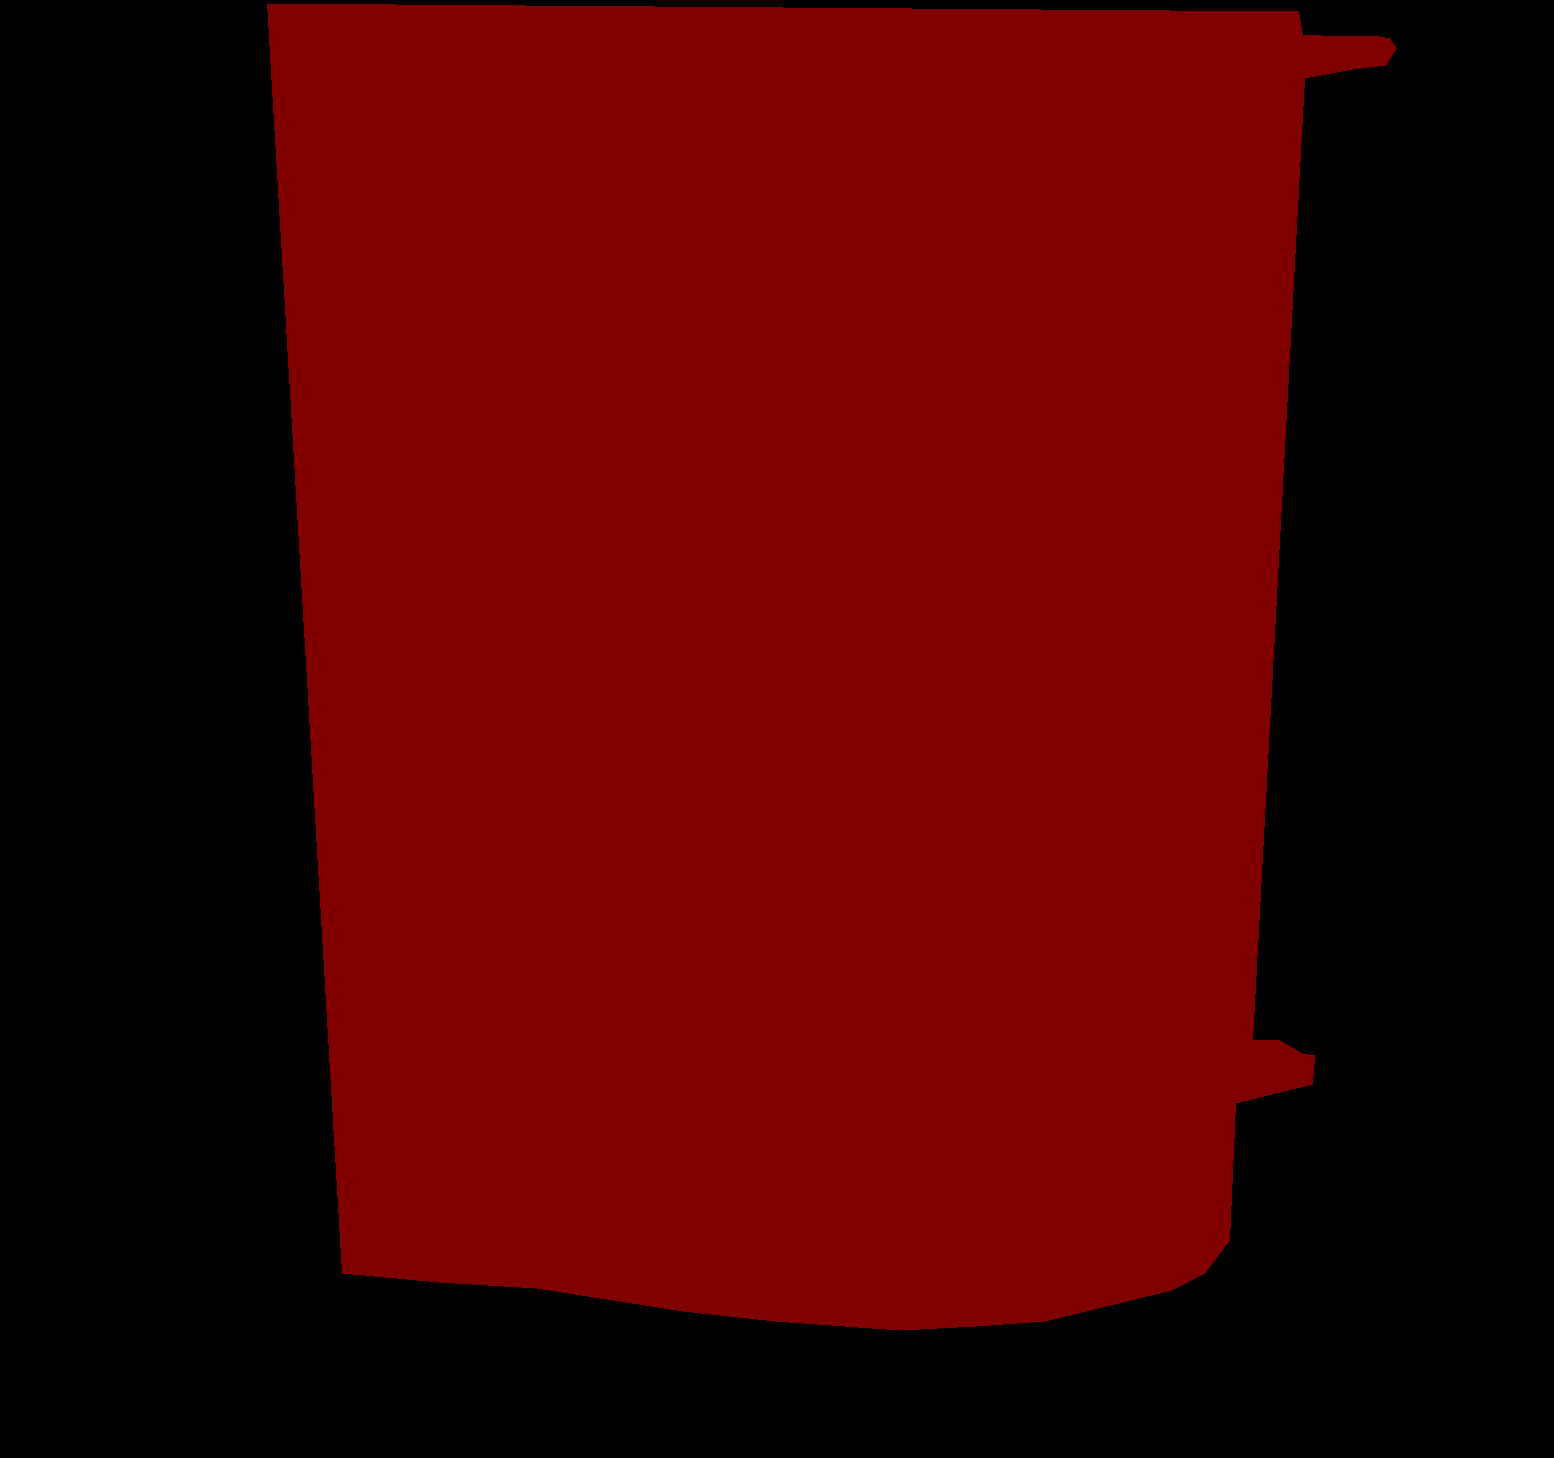sign: (267, 3, 1396, 1331)
